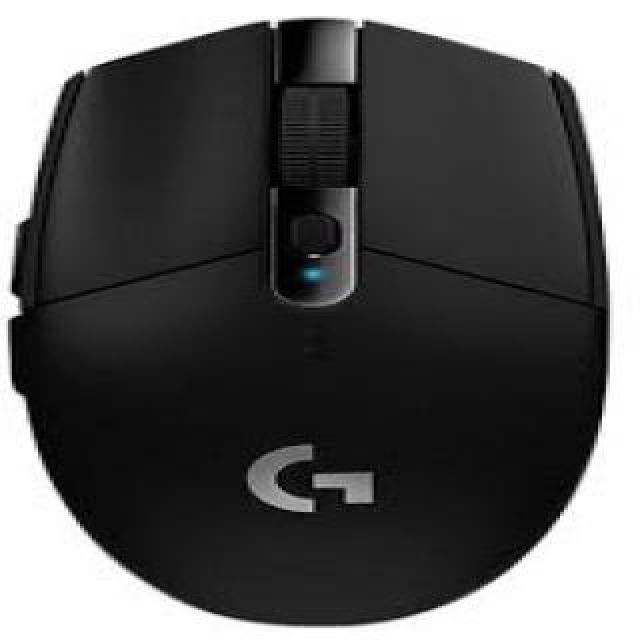mouse: (7, 0, 585, 640)
